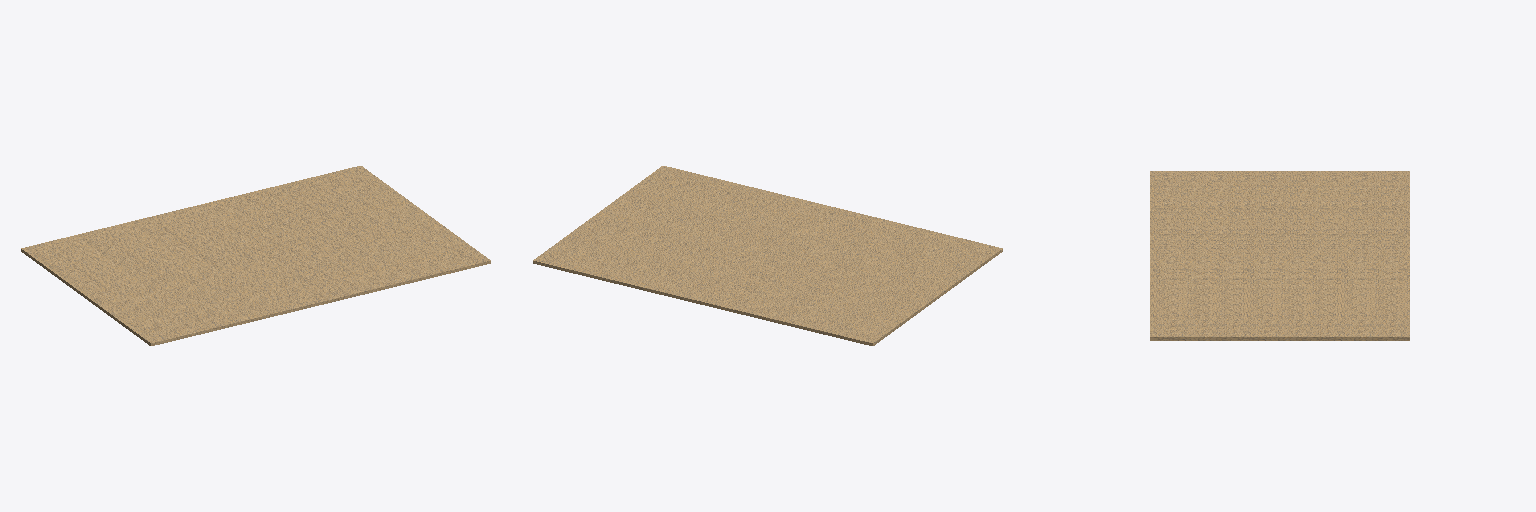
3 renders of one model, left to right at view 1: azimuth 30°, elevation 25°; view 2: azimuth 150°, elevation 25°; view 3: azimuth 270°, elevation 25°, orthographic.
Parts seen in each view (by area): view 1: Cube.009, Cube.025; view 2: Cube.009, Cube.025; view 3: Cube.025, Cube.009.
Boxes of the visible parts, x1=… form: Cube.009: x1=21, y1=207, x2=320, y2=345; Cube.025: x1=192, y1=166, x2=490, y2=304; Cube.009: x1=703, y1=207, x2=1002, y2=345; Cube.025: x1=533, y1=166, x2=831, y2=304; Cube.025: x1=1150, y1=254, x2=1409, y2=340; Cube.009: x1=1150, y1=171, x2=1409, y2=253.
Size of the model in its own units: 13.77 by 0.1177 by 9.12.
1 materials, 1 textured.